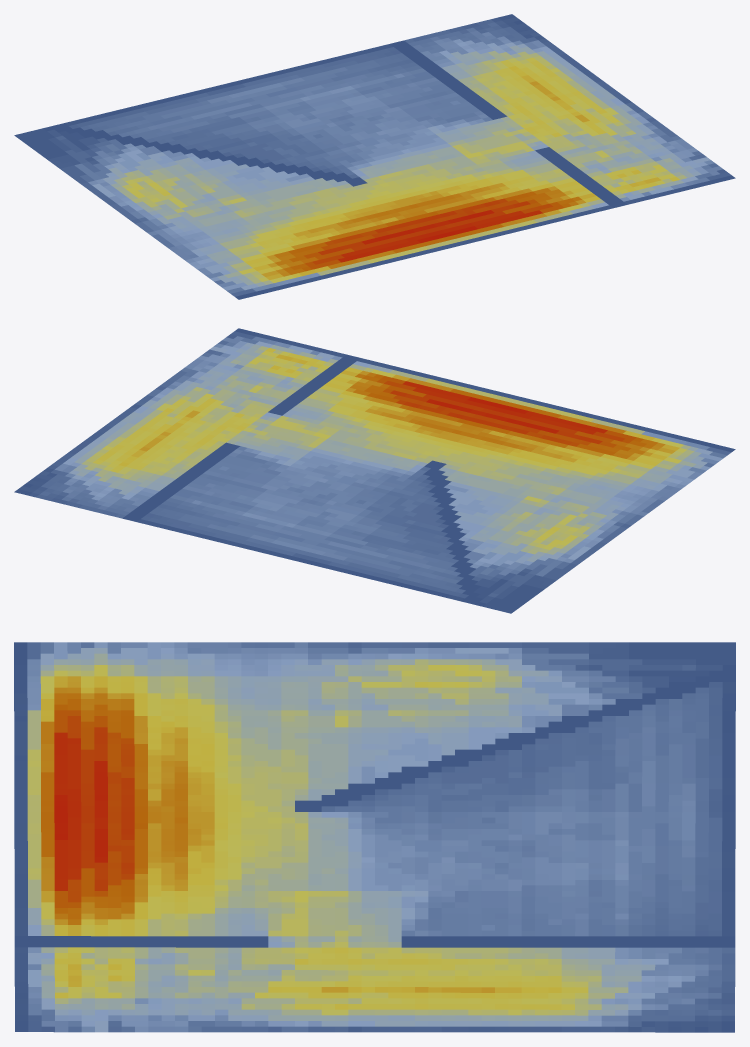
The model's file is floor.fbx.
3 views of the same model, one above another, from view 1: azimuth 30°, elevation 25°; view 2: azimuth 150°, elevation 25°; view 3: azimuth 270°, elevation 25° (orthographic). The views are drawn at different scales.
Visible parts, largest first — view 1: Layer 05; view 2: Layer 05; view 3: Layer 05.
Boxes of the visible parts, left/top/right/bottom form: Layer 05: left=14, top=14, right=735, bottom=299; Layer 05: left=14, top=328, right=735, bottom=613; Layer 05: left=14, top=642, right=735, bottom=1032.
Bounding box in the file's own units: 6.99 × 5.47 × 0.
